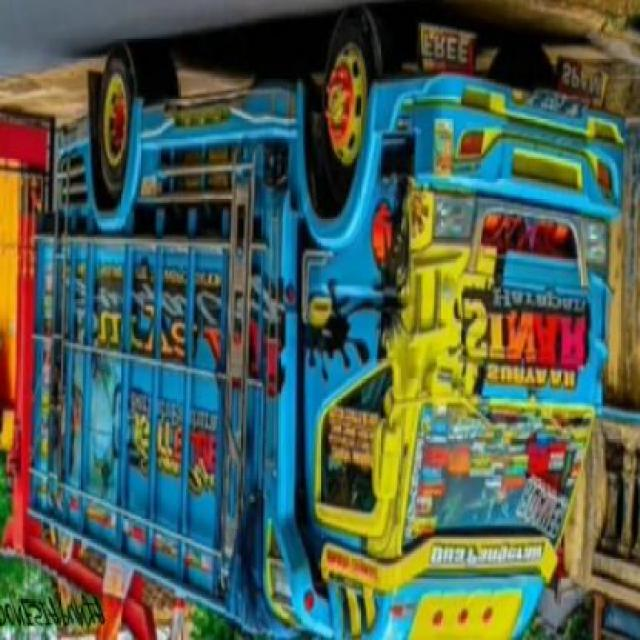truck: (27, 3, 624, 640)
